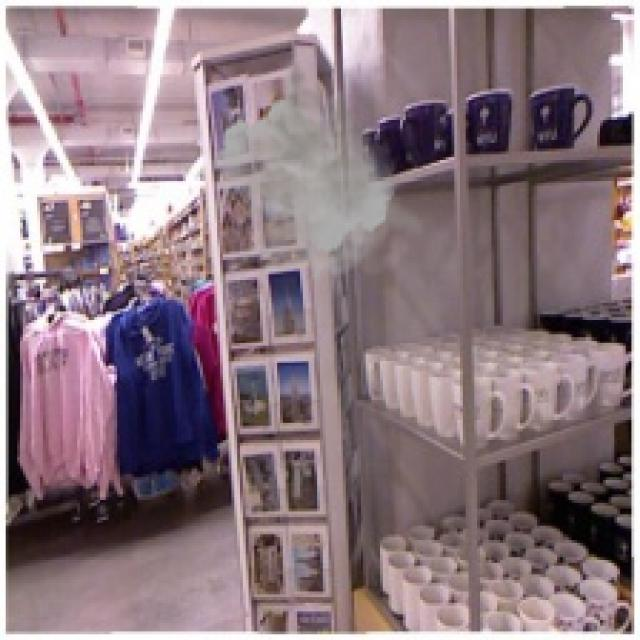smoke: (211, 54, 426, 283)
